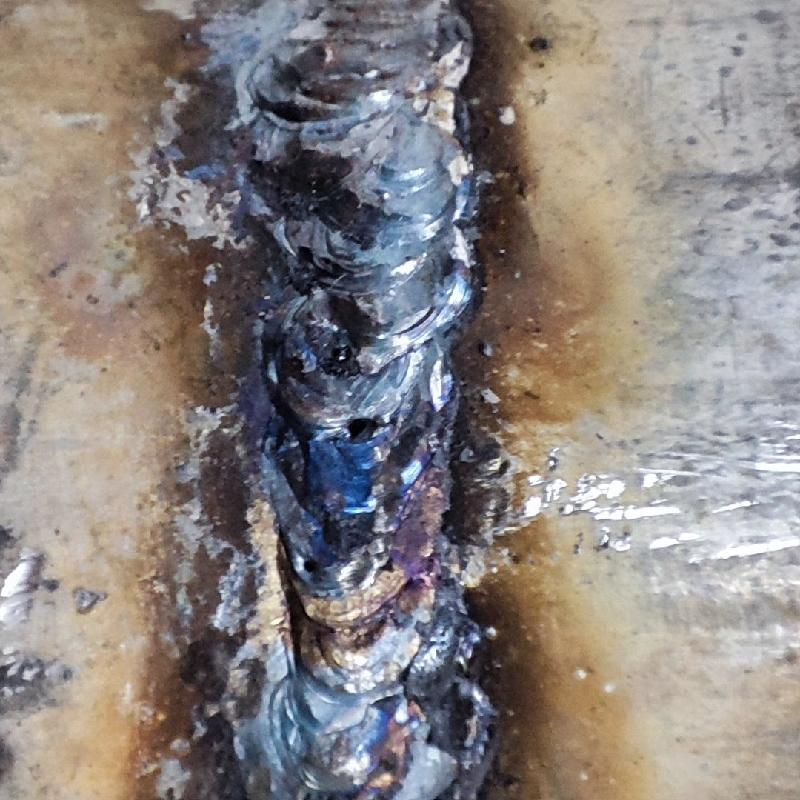Surface_pores: (332, 407, 393, 453), (288, 545, 337, 585)
